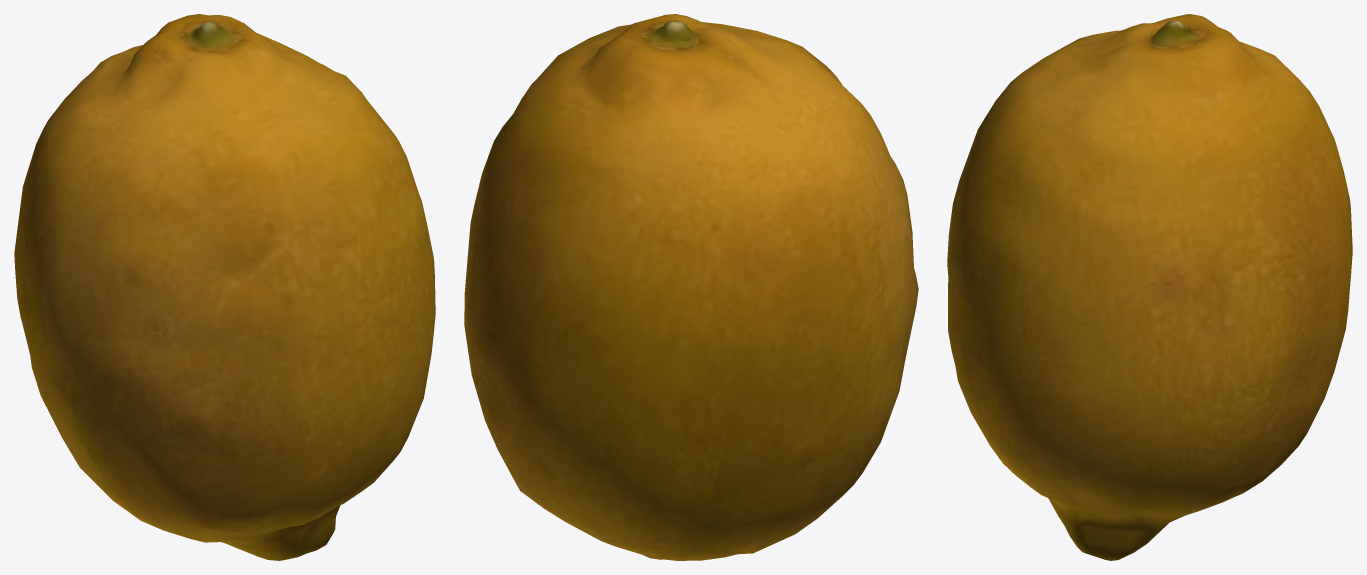
File: lemon.glb
The picture shows the model from 3 angles, left to right: view 1: azimuth 30°, elevation 25°; view 2: azimuth 150°, elevation 25°; view 3: azimuth 270°, elevation 25°; orthographic projection. The views are drawn at different scales.
Parts seen in each view (by area): view 1: lemon; view 2: lemon; view 3: lemon.
Part boxes in pixels (left/top/right/bottom): lemon: left=14, top=14, right=435, bottom=560; lemon: left=464, top=14, right=918, bottom=560; lemon: left=947, top=14, right=1352, bottom=560.
Bounding box in the file's own units: 0.0686 × 0.0953 × 0.0682.
Materials: 1 (1 with a texture image).
